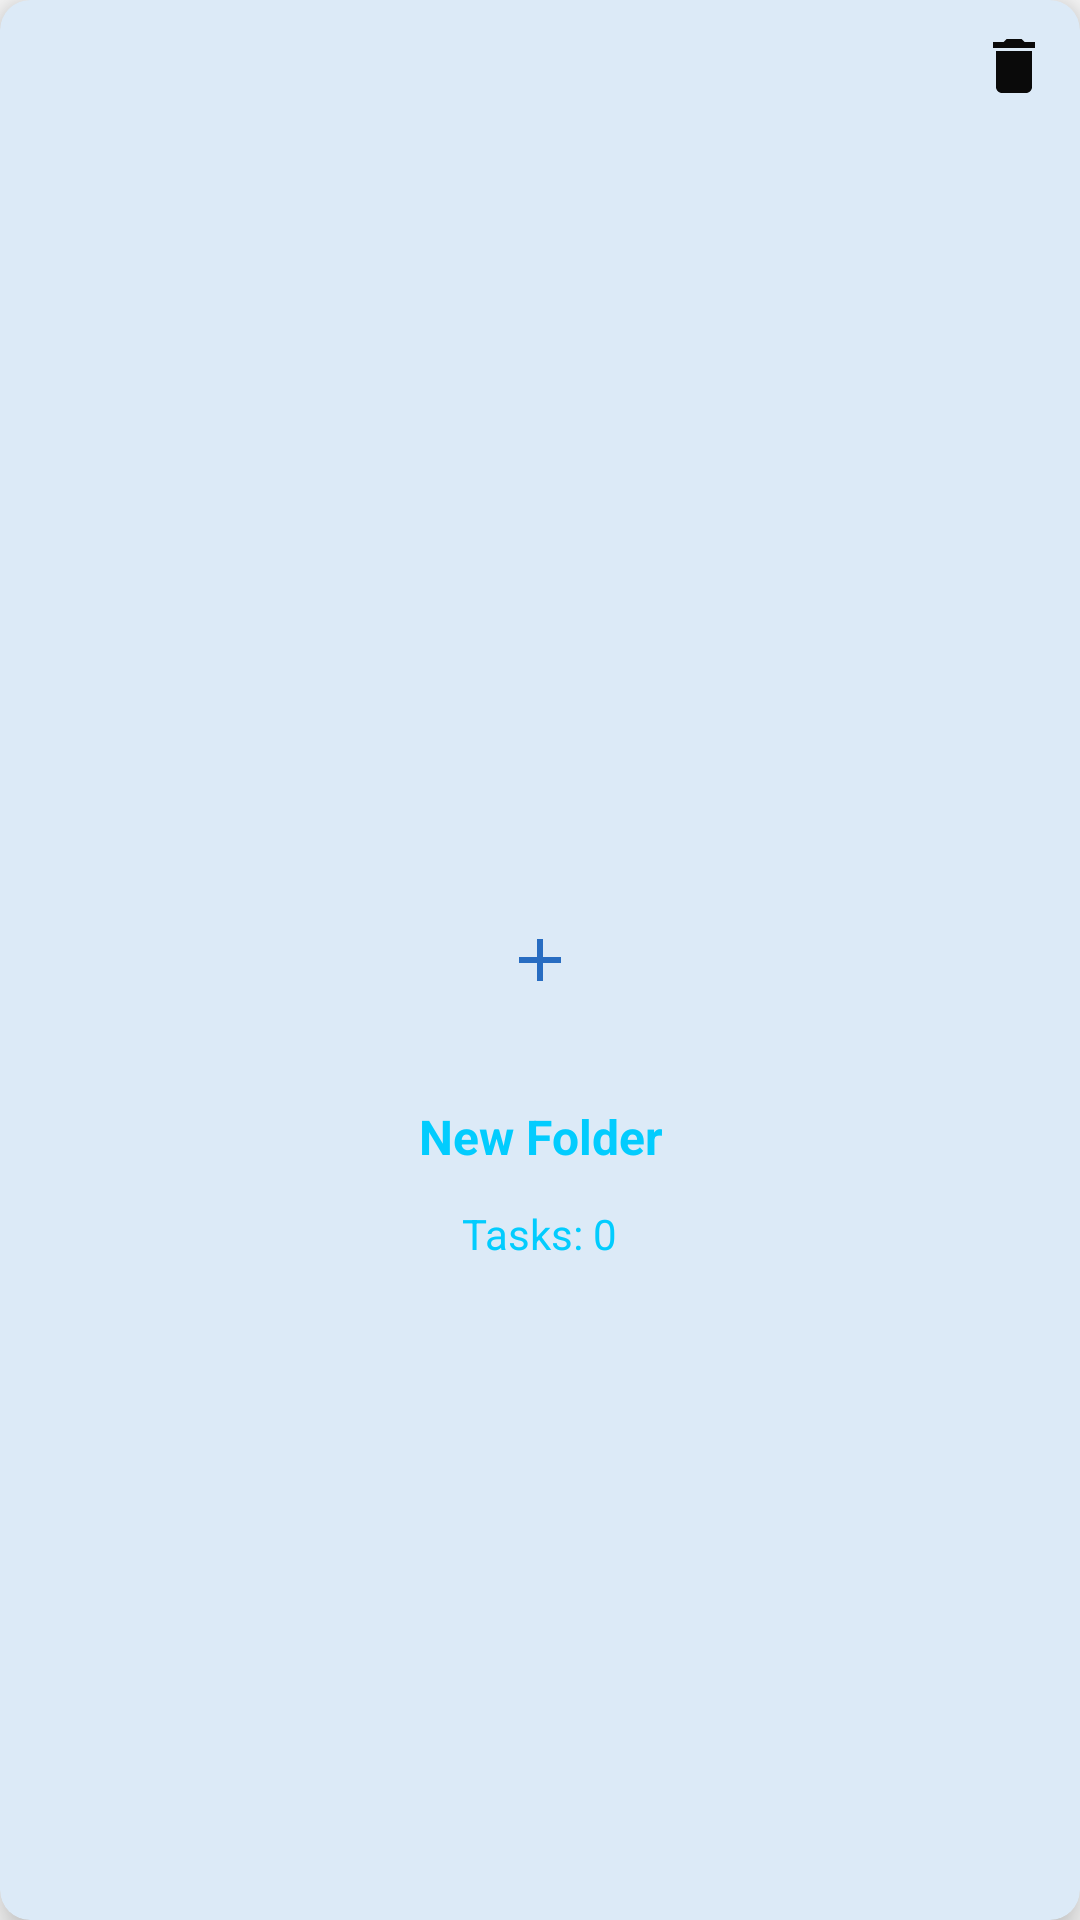

Screen size 1080px x 1920px. Icon name, then its box in pixels as [x1=x1, y1=y1, x2=x2, y2=y2]:
add: [x1=519, y1=939, x2=561, y2=981]
delete: [x1=993, y1=39, x2=1035, y2=93]
